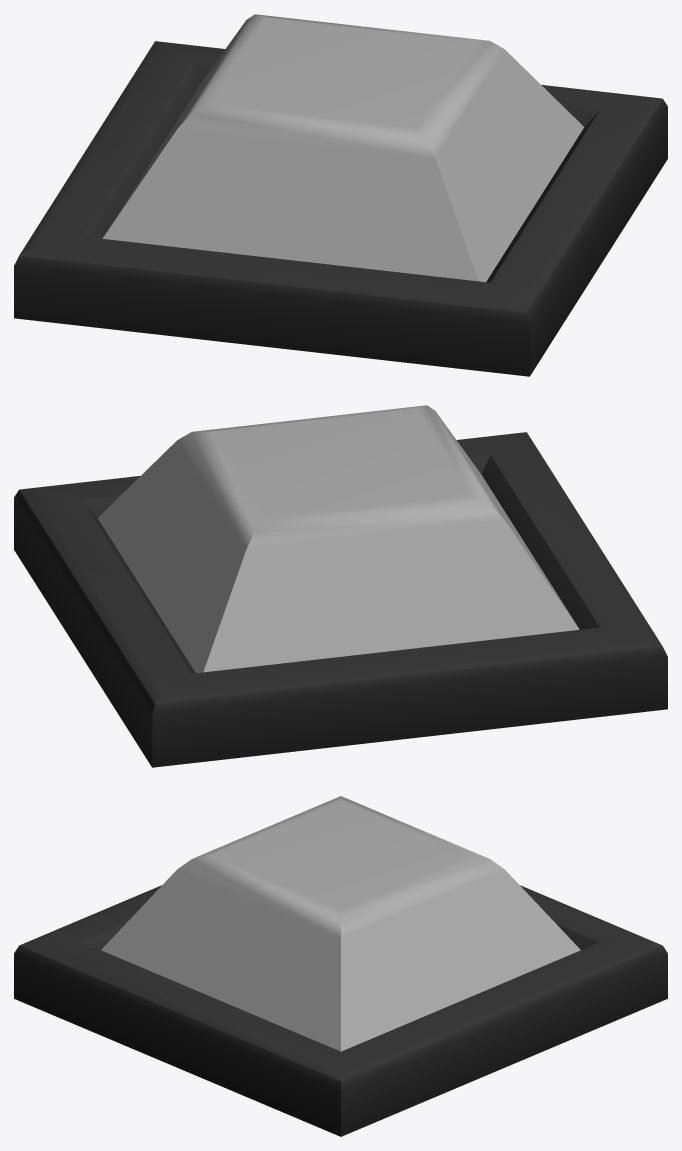
Rendered from light_v01.fbx.
3 renders of one model, top to bottom at view 1: azimuth 30°, elevation 25°; view 2: azimuth 150°, elevation 25°; view 3: azimuth 270°, elevation 25°, orthographic. The views are drawn at different scales.
Parts seen in each view (by area): view 1: pCube1; view 2: pCube1; view 3: pCube1.
Boxes of the visible parts, x1,y1,x2,y2 form: pCube1: (14,14,667,376); pCube1: (14,405,667,767); pCube1: (14,796,667,1136).
Bounding box in the file's own units: 2.89 × 0.6979 × 2.89.
